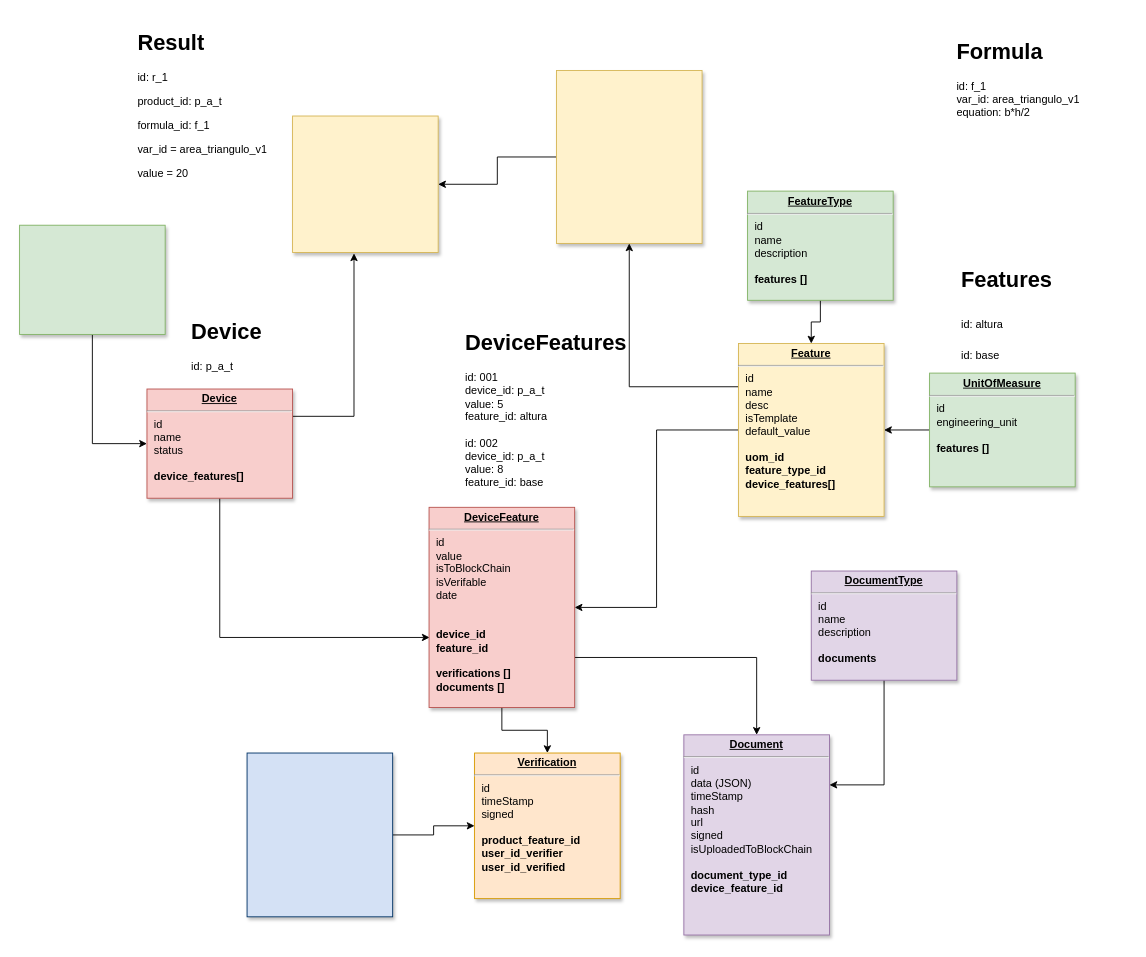
The diagram is 1146 pixels wide and 957 high, and some of its shapes have lost their labels. The shapes that lost their labels are listed below. From the top down, each one's centre as x and y in pixels, then its label:
At [630,158]: "Formula id var_id equation uom_id feature_id".
At [366,185]: "Result id var_id value device_id formula_id".
At [93,281]: "Category id name devaices []".
At [320,835]: "User id name isProfileUpdate role wallets projects".
